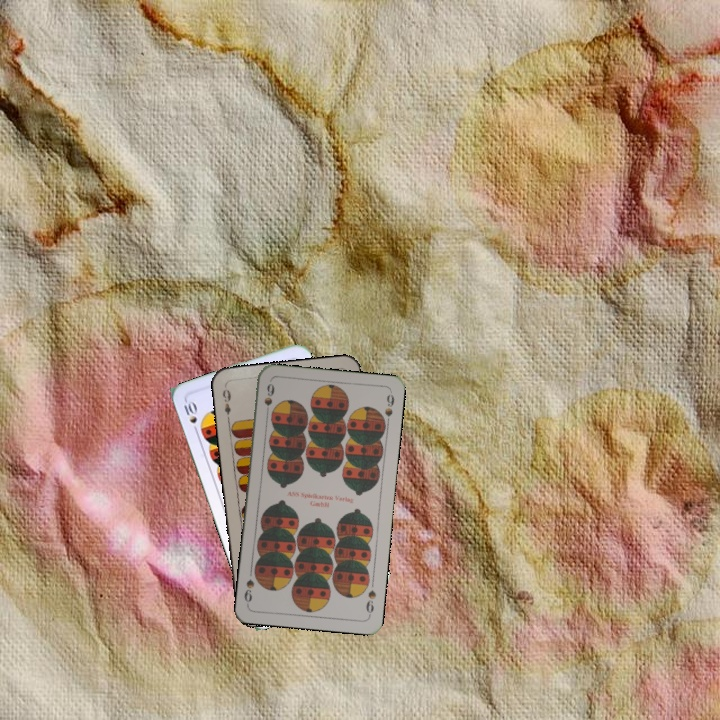E9: (218, 382, 234, 423)
S10: (180, 397, 201, 436)
S9: (260, 379, 277, 419), (362, 586, 379, 618)
